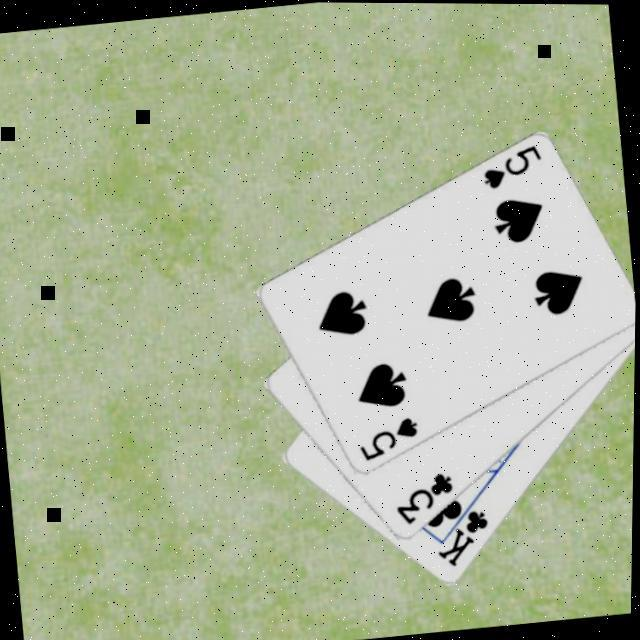3C: (388, 465, 460, 528)
5S: (474, 138, 545, 191), (352, 411, 422, 464)
KC: (428, 491, 495, 568)
